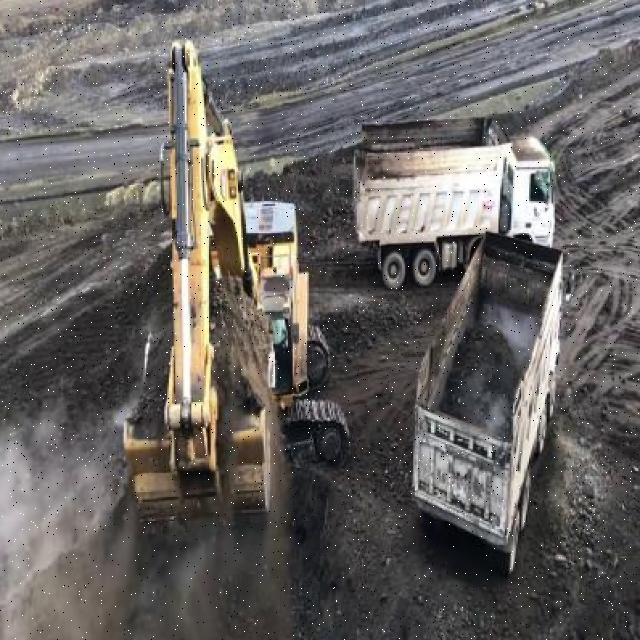Dump Truck: (410, 237, 566, 564), (354, 120, 556, 268)
Excavator: (116, 38, 350, 514)
